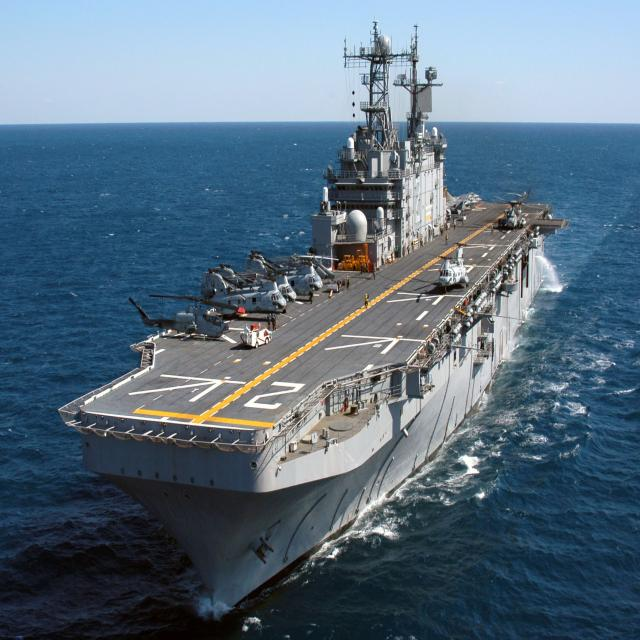navalvessels: (42, 23, 580, 624)
